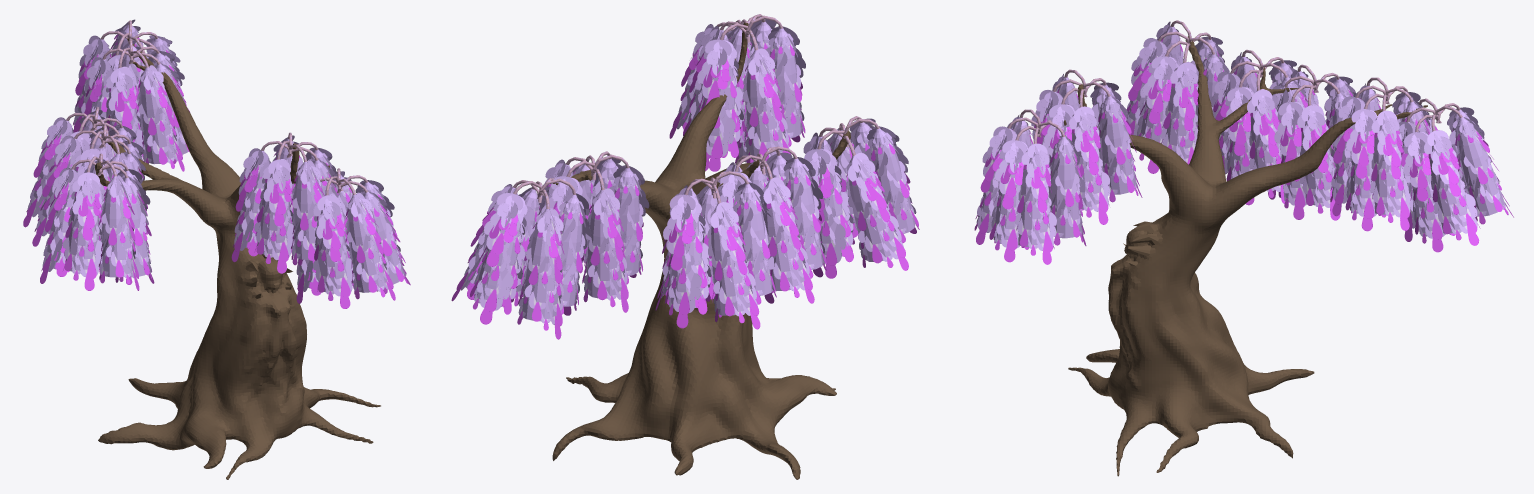
Rendered from AncientNPC.fbx.
3 views of the same model, side by side, from view 1: azimuth 30°, elevation 25°; view 2: azimuth 150°, elevation 25°; view 3: azimuth 270°, elevation 25° (orthographic). The views are drawn at different scales.
Parts seen in each view (by area): view 1: ThreeHP, Sphere.002, Sphere, Sphere.001, Sphere.005, Sphere.003, Sphere.004, Sphere.006; view 2: ThreeHP, Sphere.006, Sphere.004, Sphere.001, Sphere.002, Sphere.005, Sphere.003, Sphere; view 3: ThreeHP, Sphere, Sphere.006, Sphere.005, Sphere.001, Sphere.002, Sphere.003, Sphere.004.
Boxes of the visible parts, x1=… form: ThreeHP: x1=95, y1=38, x2=380, y2=479; Sphere.002: x1=40, y1=153, x2=154, y2=290; Sphere: x1=296, y1=168, x2=410, y2=308; Sphere.001: x1=231, y1=132, x2=338, y2=273; Sphere.005: x1=83, y1=38, x2=190, y2=171; Sphere.003: x1=32, y1=123, x2=147, y2=246; Sphere.004: x1=23, y1=106, x2=141, y2=227; Sphere.006: x1=73, y1=19, x2=180, y2=132; ThreeHP: x1=552, y1=22, x2=850, y2=479; Sphere.006: x1=451, y1=178, x2=591, y2=339; Sphere.004: x1=655, y1=171, x2=776, y2=329; Sphere.001: x1=683, y1=14, x2=805, y2=171; Sphere.002: x1=803, y1=116, x2=919, y2=278; Sphere.005: x1=541, y1=151, x2=649, y2=312; Sphere.003: x1=714, y1=146, x2=826, y2=303; Sphere: x1=669, y1=16, x2=775, y2=170; ThreeHP: x1=1064, y1=36, x2=1427, y2=476; Sphere: x1=974, y1=109, x2=1086, y2=264; Sphere.006: x1=1399, y1=98, x2=1513, y2=252; Sphere.005: x1=1330, y1=77, x2=1430, y2=231; Sphere.001: x1=1031, y1=69, x2=1142, y2=224; Sphere.002: x1=1126, y1=20, x2=1229, y2=173; Sphere.003: x1=1210, y1=49, x2=1307, y2=205; Sphere.004: x1=1268, y1=64, x2=1356, y2=220.
Bounding box in the file's own units: 7.38 × 7.49 × 10.71.
Materials: 3 (3 with a texture image).
